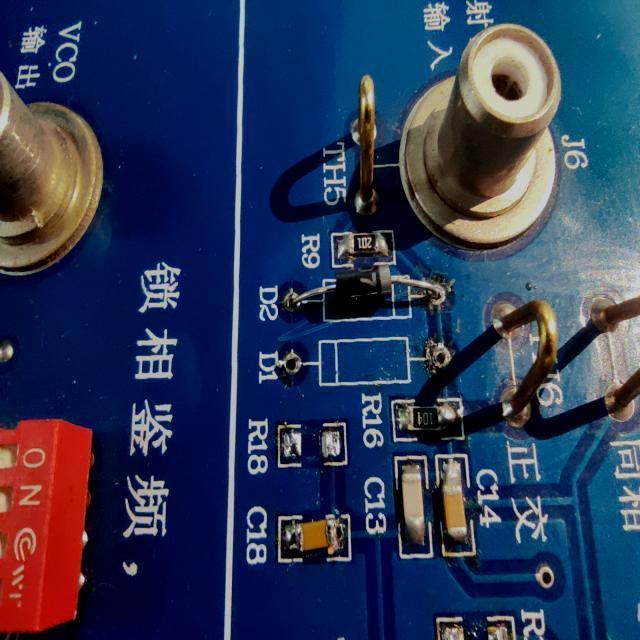Missing component: (252, 334, 463, 392), (247, 411, 350, 476), (425, 603, 553, 640)
